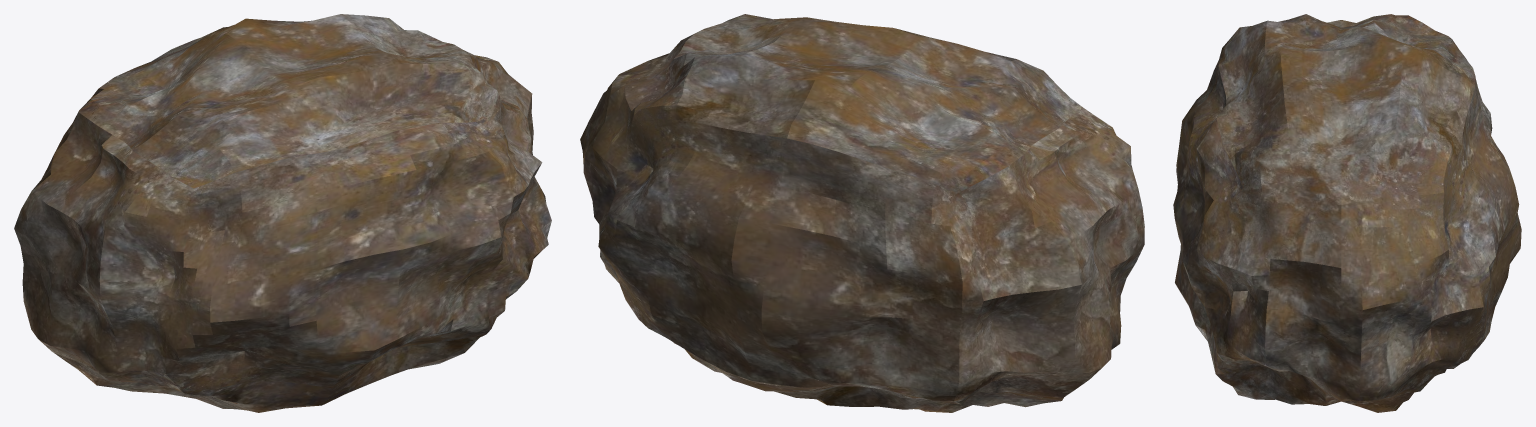
The model's file is ground.glb.
3 views of the same model, side by side, from view 1: azimuth 30°, elevation 25°; view 2: azimuth 150°, elevation 25°; view 3: azimuth 270°, elevation 25° (orthographic). The views are drawn at different scales.
Parts seen in each view (by area): view 1: Cube; view 2: Cube; view 3: Cube.
Boxes of the visible parts, <box> form: Cube: <box>14,14,551,412</box>; Cube: <box>580,14,1144,412</box>; Cube: <box>1173,14,1521,412</box>.
Size of what is drawn, in the model's own units: 1.31 by 0.8139 by 0.8266.
1 material, 1 textured.
